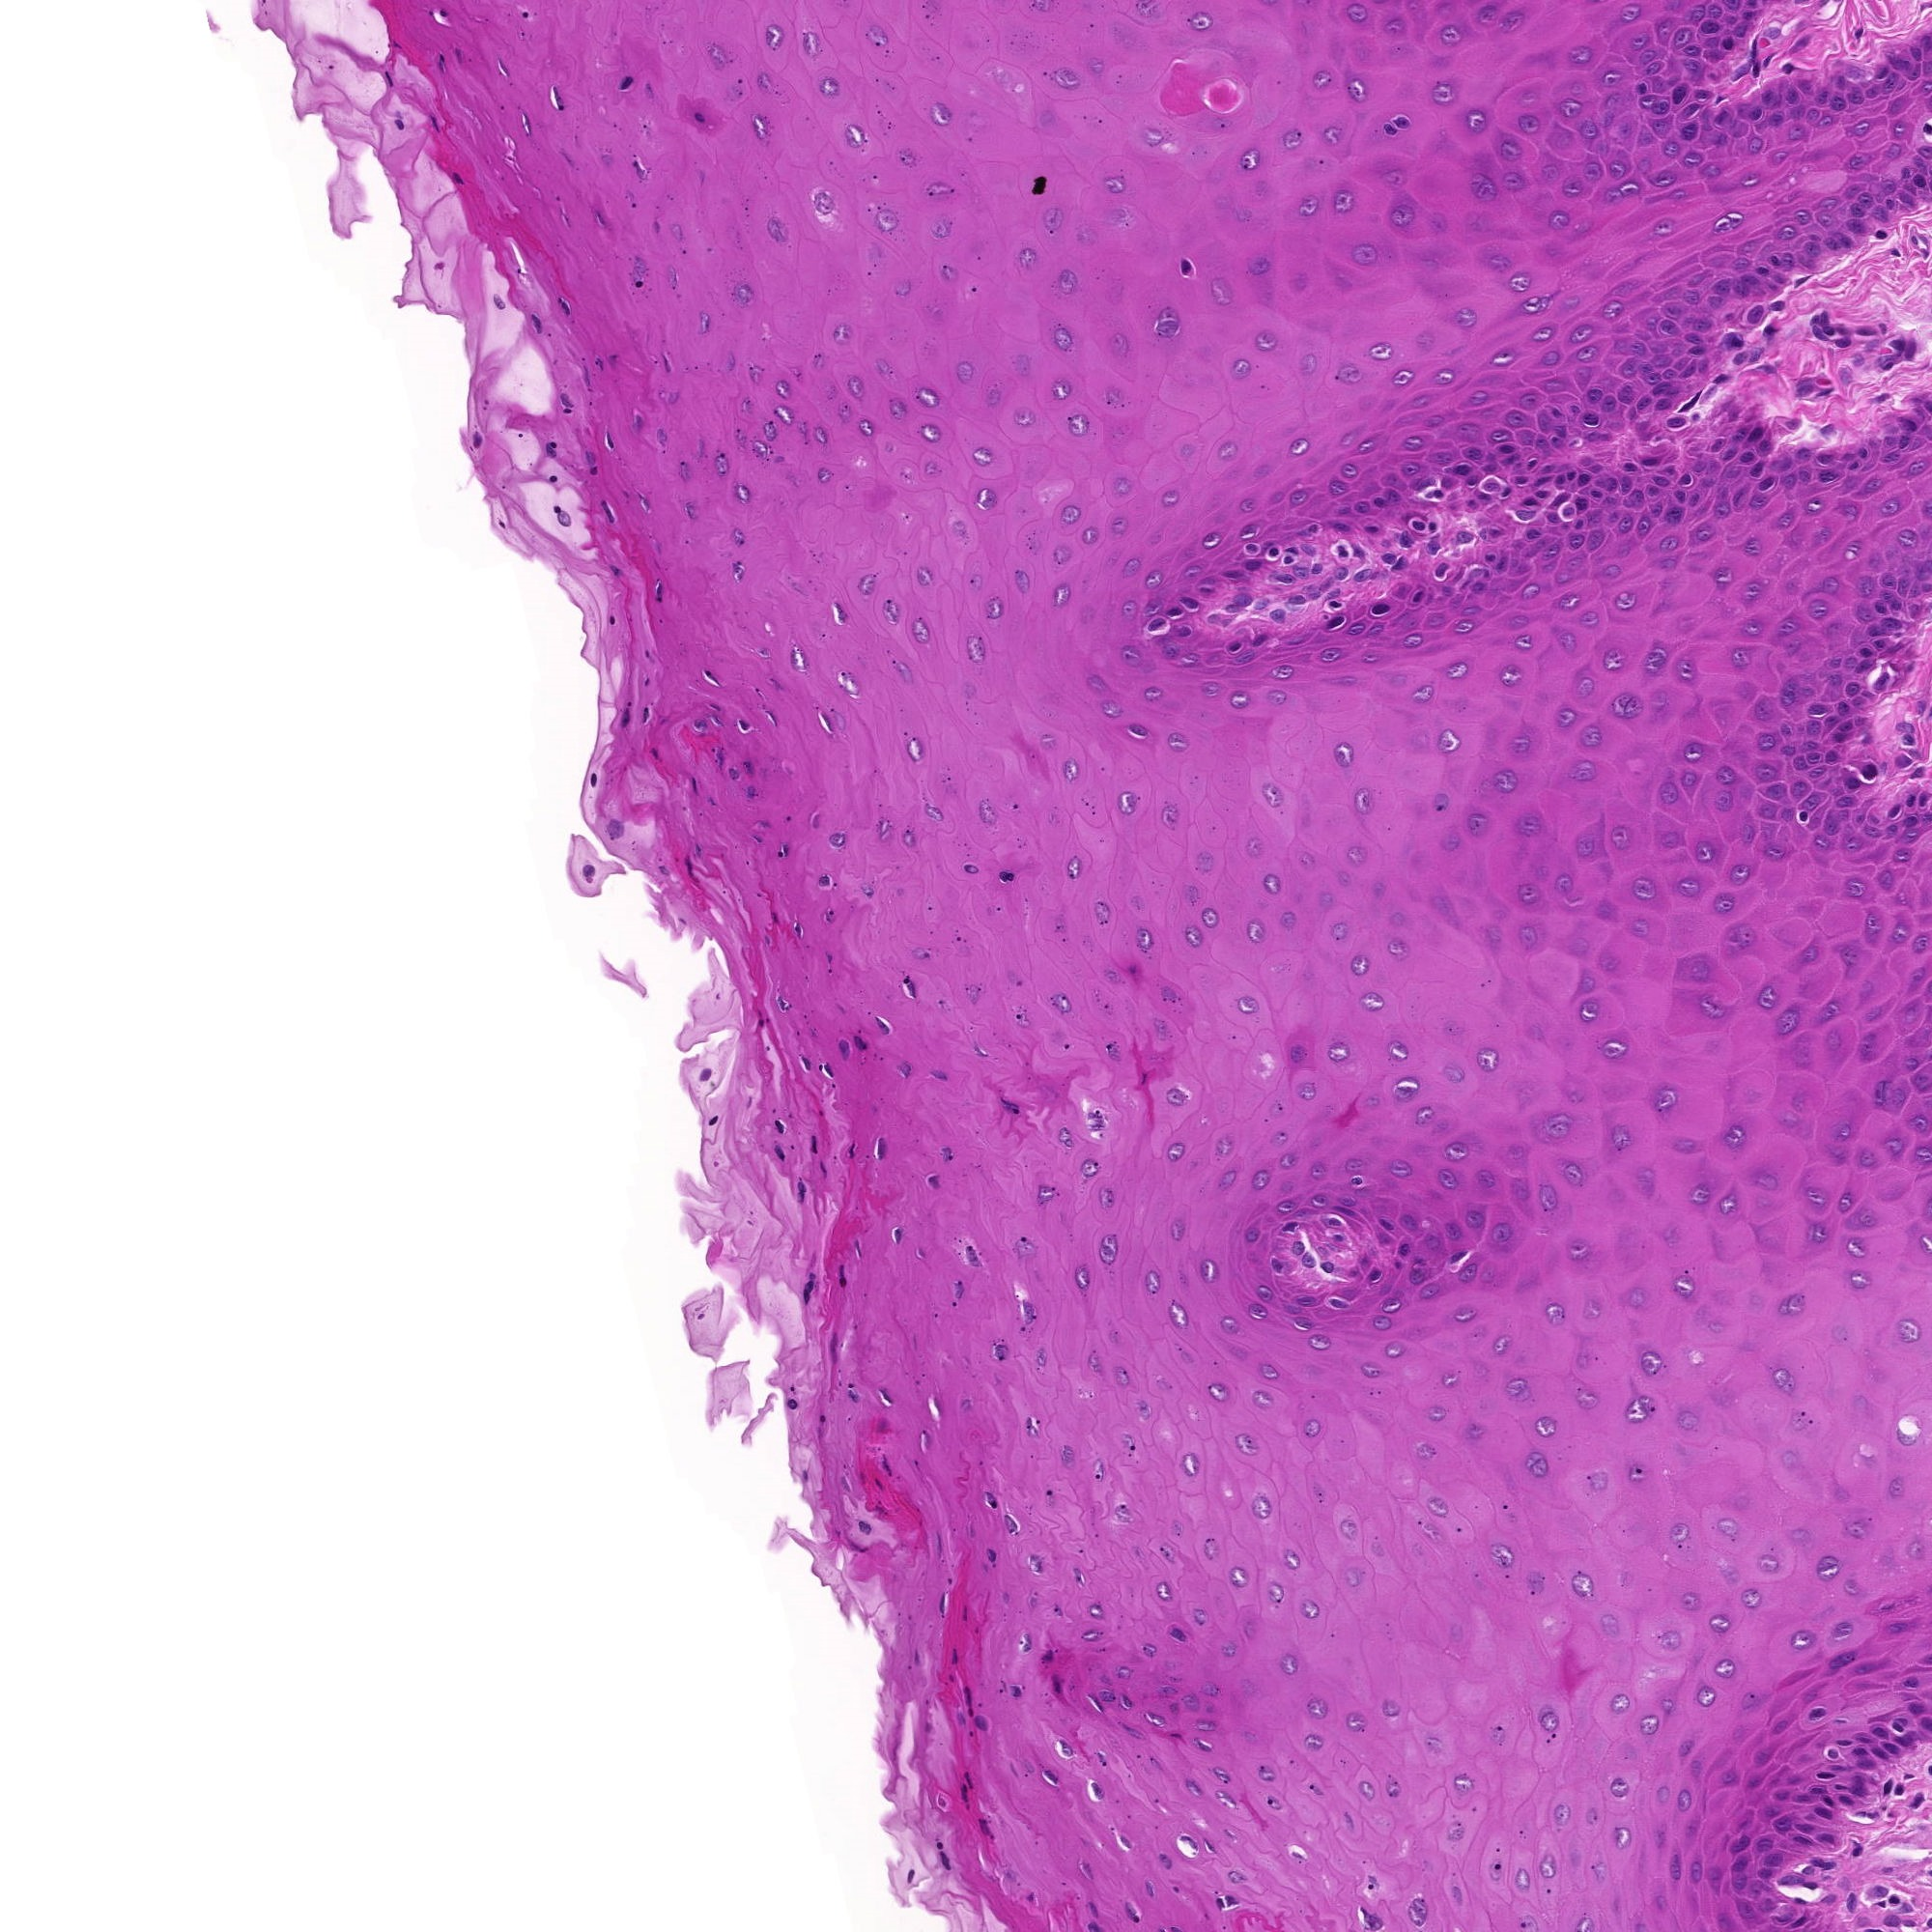epithelial: (1881, 85, 1913, 119), (1677, 104, 1709, 138), (1695, 97, 1727, 131), (1812, 817, 1844, 851), (1888, 1723, 1920, 1757), (1842, 1766, 1874, 1799), (1872, 1713, 1905, 1744), (1819, 1759, 1851, 1792), (761, 214, 793, 246), (727, 278, 759, 310), (575, 448, 607, 479), (706, 446, 738, 478), (649, 349, 681, 380), (823, 317, 855, 349), (839, 120, 870, 152), (828, 395, 860, 426), (918, 416, 950, 448), (704, 741, 736, 773), (685, 708, 717, 740), (628, 485, 660, 517), (812, 704, 844, 736), (690, 701, 722, 732), (901, 1447, 932, 1479), (1152, 310, 1184, 341), (1348, 235, 1380, 267), (1224, 352, 1256, 384), (1338, 74, 1369, 106), (1320, 464, 1352, 495), (1184, 7, 1215, 39), (1412, 444, 1444, 476), (1099, 170, 1131, 202), (1205, 108, 1237, 140), (1097, 382, 1129, 414), (1007, 349, 1039, 380), (1336, 65, 1368, 97), (1346, 492, 1378, 524), (1329, 495, 1361, 527), (1376, 479, 1408, 511), (1362, 603, 1394, 635), (1079, 665, 1111, 697), (1191, 571, 1223, 603), (1136, 676, 1168, 708), (1267, 653, 1299, 685), (1161, 630, 1192, 662), (1141, 610, 1173, 642), (1154, 800, 1185, 832), (1053, 752, 1085, 784), (1177, 646, 1208, 678), (1223, 679, 1254, 711), (1286, 517, 1318, 548), (1169, 637, 1201, 669), (1242, 916, 1274, 948), (1309, 885, 1341, 916), (1237, 1219, 1269, 1251), (1304, 1182, 1336, 1214), (1401, 1247, 1433, 1279), (1272, 1205, 1304, 1237), (1302, 1152, 1334, 1184), (1364, 1306, 1396, 1338), (1162, 1214, 1194, 1246), (1346, 1173, 1378, 1205), (1253, 1355, 1284, 1387), (1093, 1182, 1125, 1214), (1201, 1373, 1233, 1405), (1371, 1274, 1403, 1306), (1212, 1161, 1244, 1192), (1161, 1138, 1192, 1169), (1408, 1099, 1440, 1131), (1419, 1180, 1451, 1212), (1384, 1031, 1415, 1063), (1378, 1152, 1410, 1184), (1357, 1357, 1389, 1389), (1207, 1131, 1238, 1162), (1295, 1414, 1327, 1445), (1175, 1684, 1207, 1716), (1106, 1656, 1138, 1688), (1341, 1707, 1373, 1739), (1695, 12, 1727, 44), (1737, 419, 1769, 451), (1663, 80, 1695, 111), (1490, 433, 1522, 465), (1713, 28, 1744, 60), (1495, 442, 1527, 474), (1527, 426, 1559, 458), (1706, 101, 1737, 133), (1652, 311, 1684, 343), (1776, 80, 1808, 111), (1897, 57, 1928, 88), (1578, 380, 1610, 412), (1681, 334, 1713, 366), (1677, 322, 1709, 354), (1529, 460, 1560, 492), (1447, 446, 1479, 478), (1895, 409, 1927, 441), (1723, 418, 1755, 449), (1734, 426, 1766, 458), (1631, 354, 1663, 386), (1642, 108, 1674, 140), (1874, 172, 1905, 203), (1720, 19, 1752, 51), (1746, 428, 1778, 460), (1647, 389, 1679, 421), (1537, 398, 1569, 430), (1881, 55, 1913, 87), (1874, 184, 1905, 216), (1686, 78, 1718, 110), (1840, 145, 1872, 177), (1573, 391, 1605, 423), (1695, 23, 1727, 55), (1782, 97, 1813, 129), (1622, 333, 1654, 364), (1787, 437, 1819, 469), (1835, 446, 1867, 478), (1750, 103, 1782, 134), (1771, 218, 1803, 249), (1454, 458, 1486, 490), (1845, 437, 1877, 469), (1644, 69, 1675, 101), (1668, 462, 1700, 494), (1635, 88, 1667, 120), (1730, 4, 1762, 35), (1759, 449, 1790, 481), (1647, 101, 1679, 133), (1739, 131, 1771, 163), (1502, 455, 1534, 487), (1720, 111, 1752, 143), (1711, 108, 1743, 140), (1865, 73, 1897, 104), (1683, 111, 1714, 143), (1580, 421, 1612, 453), (1463, 108, 1495, 140), (1592, 62, 1624, 94), (1463, 172, 1495, 203), (1709, 209, 1741, 241), (1859, 65, 1891, 97), (1479, 244, 1511, 276), (1805, 103, 1836, 134), (1454, 103, 1486, 134), (1488, 338, 1520, 370), (1686, 96, 1718, 127), (1652, 161, 1684, 193), (1571, 334, 1603, 366), (1601, 179, 1633, 211), (1461, 209, 1493, 241), (1755, 249, 1787, 281), (1633, 334, 1665, 366), (1612, 329, 1644, 361), (1790, 246, 1822, 278), (1881, 435, 1913, 467), (1798, 442, 1829, 474), (1548, 120, 1580, 152), (1695, 111, 1727, 143), (1734, 255, 1766, 287), (1463, 97, 1495, 129), (1828, 449, 1859, 481), (1654, 96, 1686, 127), (1594, 379, 1626, 410), (1882, 113, 1914, 145), (1716, 269, 1748, 301), (1743, 108, 1775, 140), (1888, 64, 1920, 96), (1688, 152, 1720, 184), (1566, 410, 1598, 442), (1812, 223, 1844, 255), (1456, 421, 1488, 453), (1509, 414, 1541, 446), (1672, 23, 1704, 55), (1518, 435, 1550, 467), (1665, 366, 1697, 398), (1566, 382, 1598, 414), (1465, 444, 1497, 476), (1536, 412, 1568, 444), (1888, 149, 1920, 180), (1608, 271, 1640, 303), (1594, 403, 1626, 435), (1529, 418, 1560, 449), (1713, 249, 1744, 281), (1856, 177, 1888, 209), (1683, 16, 1714, 48), (1895, 172, 1927, 203), (1739, 435, 1771, 467), (1898, 48, 1930, 80), (1486, 248, 1518, 280), (1493, 412, 1525, 444), (1631, 366, 1663, 398), (1801, 694, 1833, 725), (1863, 628, 1895, 660), (1484, 548, 1516, 580), (1798, 708, 1829, 740), (1582, 479, 1614, 511), (1851, 570, 1882, 602), (1819, 663, 1851, 695), (1872, 564, 1904, 596), (1665, 479, 1697, 511), (1578, 524, 1610, 556), (1870, 863, 1902, 895), (1674, 764, 1706, 796), (1642, 640, 1674, 672), (1709, 757, 1741, 789), (1695, 833, 1727, 865), (1552, 495, 1583, 527), (1509, 876, 1541, 908), (1511, 807, 1543, 839), (1750, 794, 1782, 826), (1819, 646, 1851, 678), (1741, 487, 1773, 518), (1884, 589, 1916, 621), (1856, 915, 1888, 947), (1757, 835, 1789, 867), (1875, 490, 1907, 522), (1881, 621, 1913, 653), (1773, 607, 1805, 639), (1897, 573, 1928, 605), (1656, 823, 1688, 855), (1672, 869, 1704, 901), (1725, 925, 1757, 957), (1550, 584, 1582, 616), (1610, 517, 1642, 548), (1566, 759, 1598, 791), (1778, 632, 1810, 663), (1656, 508, 1688, 540), (1534, 541, 1566, 573), (1456, 582, 1488, 614), (1493, 761, 1525, 793), (1812, 750, 1844, 782), (1808, 828, 1840, 860), (1842, 658, 1874, 690), (1456, 594, 1488, 626), (1640, 481, 1672, 513), (1562, 534, 1594, 566), (1587, 495, 1619, 527), (1500, 605, 1532, 637), (1559, 545, 1591, 577), (1826, 800, 1858, 832), (1859, 839, 1891, 870), (1615, 487, 1647, 518), (1757, 761, 1789, 793), (1794, 803, 1826, 835), (1592, 556, 1624, 587), (1799, 722, 1831, 754), (1610, 531, 1642, 563), (1447, 591, 1479, 623), (1493, 658, 1525, 690), (1856, 904, 1888, 936), (1810, 580, 1842, 612), (1780, 731, 1812, 763), (1844, 621, 1875, 653), (1522, 573, 1553, 605), (1801, 715, 1833, 747), (1851, 580, 1882, 612), (1509, 545, 1541, 577), (1803, 814, 1835, 846), (1729, 775, 1760, 807), (1865, 1076, 1897, 1108), (1688, 1175, 1720, 1207), (1714, 1118, 1746, 1150), (1881, 1132, 1913, 1164), (1603, 1125, 1635, 1157), (1557, 1154, 1589, 1185), (1854, 1024, 1886, 1056), (1767, 1362, 1799, 1394), (1773, 1010, 1805, 1042), (1822, 1139, 1854, 1171), (1631, 1168, 1663, 1200), (1530, 1407, 1562, 1438), (1898, 1053, 1930, 1085), (1467, 1208, 1499, 1240), (1725, 1849, 1757, 1881), (1882, 1709, 1914, 1741), (1790, 1812, 1822, 1844), (1746, 1741, 1778, 1773), (1847, 1723, 1879, 1755), (1744, 1766, 1776, 1798), (1810, 1759, 1842, 1790), (1851, 1652, 1882, 1684), (1898, 1693, 1930, 1725), (1805, 1766, 1836, 1798), (1679, 1854, 1711, 1886), (1736, 1872, 1767, 1904), (1729, 1766, 1760, 1798), (1752, 1836, 1783, 1868), (1778, 1808, 1810, 1840), (1744, 1867, 1776, 1898), (1660, 1851, 1691, 1882), (1789, 1622, 1821, 1654), (1709, 1865, 1741, 1897), (1760, 1773, 1792, 1805), (1757, 1863, 1789, 1895), (1730, 1856, 1762, 1888), (1755, 1821, 1787, 1852), (1836, 1759, 1868, 1790), (1364, 334, 1398, 364), (1162, 603, 1192, 637), (1028, 1178, 1062, 1208), (1656, 379, 1686, 412), (1500, 165, 1534, 195), (1658, 133, 1691, 163), (1665, 90, 1695, 124), (1477, 462, 1507, 495), (1651, 368, 1684, 398), (1642, 462, 1672, 495), (1711, 290, 1741, 324), (1847, 651, 1881, 681), (1845, 633, 1879, 663), (1826, 679, 1859, 709), (1844, 814, 1874, 847), (1821, 1028, 1851, 1062), (1767, 1859, 1798, 1893), (885, 393, 916, 423), (623, 407, 655, 437), (929, 97, 961, 127), (747, 64, 777, 96), (931, 255, 962, 285), (743, 110, 773, 142), (511, 108, 543, 138), (807, 418, 837, 449), (807, 186, 839, 216), (807, 458, 837, 490), (816, 69, 846, 101), (725, 421, 755, 453), (890, 142, 922, 172), (738, 356, 768, 387), (488, 51, 518, 83), (840, 370, 870, 402), (791, 27, 823, 57), (658, 382, 688, 414), (803, 341, 833, 373), (732, 387, 763, 419), (747, 435, 777, 467), (927, 214, 959, 244), (863, 23, 893, 55), (732, 750, 763, 782), (600, 812, 630, 844), (867, 812, 897, 844), (908, 561, 938, 593), (851, 570, 883, 600), (743, 823, 773, 855), (874, 591, 906, 621), (761, 669, 793, 699), (648, 706, 679, 736), (800, 805, 830, 837), (752, 924, 784, 954), (842, 1231, 872, 1263), (892, 1053, 922, 1085), (867, 1410, 897, 1442), (924, 1389, 954, 1421), (941, 1272, 973, 1302), (925, 1589, 957, 1619), (899, 1642, 931, 1672), (924, 1527, 954, 1559), (846, 1461, 878, 1491), (879, 1734, 909, 1766), (1246, 249, 1276, 281), (1396, 428, 1426, 460), (1376, 464, 1408, 494), (1332, 453, 1364, 483), (1422, 442, 1453, 474), (1284, 265, 1315, 297), (1293, 189, 1325, 219), (1387, 361, 1419, 391), (1415, 242, 1445, 274), (1249, 324, 1279, 356), (1047, 320, 1079, 350), (1307, 62, 1338, 94), (1037, 205, 1069, 235), (1054, 62, 1085, 94), (1283, 428, 1315, 458), (1341, 2, 1373, 32), (1152, 299, 1182, 331), (1421, 209, 1453, 239), (1330, 357, 1362, 387), (1405, 384, 1437, 414), (1079, 51, 1109, 83), (1327, 265, 1359, 295), (970, 437, 1000, 469), (1385, 207, 1417, 237), (1062, 405, 1092, 437), (1031, 103, 1063, 133), (1159, 594, 1189, 626), (1139, 602, 1171, 632), (1403, 582, 1435, 612), (1339, 614, 1371, 644), (1168, 616, 1200, 646), (1217, 559, 1247, 591), (1237, 548, 1267, 580), (1316, 639, 1346, 671), (1175, 589, 1207, 619), (1115, 637, 1145, 669), (1148, 625, 1180, 655), (1237, 531, 1267, 563), (1276, 481, 1307, 511), (1148, 600, 1180, 630), (1391, 501, 1421, 533), (1327, 508, 1359, 538), (1233, 495, 1263, 527), (973, 485, 1005, 515), (1272, 904, 1304, 934), (1361, 614, 1391, 646), (1224, 554, 1254, 586), (1115, 786, 1145, 817), (1389, 605, 1419, 637), (1177, 878, 1207, 909), (1171, 625, 1201, 656), (1005, 563, 1037, 593), (1116, 550, 1146, 582), (1350, 784, 1380, 816), (1138, 559, 1168, 591), (1355, 644, 1387, 674), (1056, 497, 1086, 529), (1325, 741, 1357, 771), (1129, 924, 1161, 954), (1316, 616, 1346, 648), (1286, 481, 1318, 511), (1362, 874, 1392, 906), (980, 593, 1010, 625), (1058, 856, 1088, 888), (1254, 867, 1284, 899), (1180, 922, 1212, 952), (1171, 540, 1203, 570), (1357, 632, 1387, 663), (1414, 582, 1444, 614), (964, 632, 996, 662), (1205, 561, 1237, 591), (1394, 612, 1424, 644), (1290, 1286, 1322, 1316), (1392, 1205, 1424, 1235), (1371, 1208, 1401, 1240), (1387, 1233, 1419, 1263), (1341, 1159, 1371, 1191), (1417, 1224, 1447, 1256), (1249, 1277, 1279, 1309), (1261, 1249, 1293, 1279), (1316, 1207, 1348, 1237), (1288, 1304, 1318, 1336), (1378, 1284, 1408, 1316), (1392, 1076, 1422, 1108), (1389, 1154, 1421, 1184), (1092, 1233, 1122, 1265), (1152, 980, 1184, 1010), (1286, 1196, 1316, 1228), (1233, 989, 1263, 1021), (1024, 1341, 1056, 1371), (1051, 1122, 1081, 1154), (1338, 1198, 1368, 1230), (1394, 1238, 1426, 1269), (1044, 985, 1076, 1016), (1398, 1212, 1430, 1242), (1136, 1265, 1168, 1295), (1361, 985, 1392, 1016), (1108, 1357, 1138, 1389), (1410, 1272, 1442, 1302), (1322, 1200, 1352, 1231), (1304, 1323, 1336, 1353), (1373, 1292, 1403, 1323), (1272, 1178, 1302, 1210), (1079, 1350, 1111, 1380), (1247, 1288, 1279, 1318), (1290, 1076, 1320, 1108), (1421, 1399, 1451, 1431), (1111, 1686, 1141, 1718), (1196, 1675, 1228, 1706), (1299, 1725, 1329, 1757), (1159, 1691, 1189, 1723), (1214, 1635, 1246, 1665), (1403, 1895, 1435, 1925), (1076, 1619, 1106, 1651), (1093, 1677, 1123, 1709), (1274, 1647, 1304, 1679), (1132, 1635, 1164, 1665), (1051, 1440, 1083, 1470), (1150, 1576, 1180, 1608), (1375, 1693, 1405, 1725), (1184, 1601, 1214, 1633), (1102, 1683, 1132, 1714), (1299, 1691, 1329, 1723), (1090, 1665, 1122, 1695), (994, 1859, 1024, 1891), (1150, 1537, 1182, 1568), (1575, 403, 1606, 433), (1445, 455, 1477, 485), (1730, 442, 1762, 472), (1645, 92, 1675, 124), (1645, 373, 1675, 405), (1741, 455, 1771, 487), (1886, 48, 1918, 78), (1739, 99, 1771, 129), (1677, 35, 1709, 65), (1746, 257, 1778, 287), (1824, 88, 1856, 119), (1806, 80, 1836, 111), (1592, 391, 1624, 421), (1484, 419, 1516, 449), (1569, 464, 1601, 494), (1626, 387, 1658, 418), (1844, 193, 1874, 225), (1727, 274, 1757, 306), (1729, 267, 1760, 297), (1713, 439, 1744, 469), (1545, 418, 1575, 449), (1626, 74, 1658, 104), (1704, 124, 1736, 154), (1840, 80, 1870, 111), (1810, 460, 1840, 492), (1511, 106, 1543, 136), (1644, 165, 1675, 195), (1516, 448, 1546, 479), (1762, 246, 1794, 276), (1842, 205, 1874, 235), (1826, 65, 1856, 97), (1697, 37, 1729, 67), (1884, 426, 1916, 456), (1681, 57, 1713, 87), (1852, 184, 1882, 216), (1787, 202, 1819, 232), (1789, 460, 1821, 490), (1677, 143, 1709, 173), (1856, 76, 1888, 106), (1500, 402, 1530, 433), (1665, 18, 1695, 50), (1684, 451, 1716, 481), (1633, 446, 1665, 476), (1739, 264, 1769, 295), (1559, 172, 1589, 203), (1897, 159, 1928, 189), (1727, 16, 1759, 46), (1836, 175, 1867, 207), (1773, 464, 1803, 495), (1614, 352, 1644, 384), (1610, 464, 1642, 494), (1594, 464, 1624, 495), (1900, 37, 1930, 69), (1545, 202, 1575, 234), (1490, 127, 1520, 159), (1714, 458, 1744, 490), (1562, 42, 1594, 73), (1789, 71, 1821, 101), (1874, 425, 1904, 456), (1578, 154, 1608, 186), (1610, 113, 1642, 143), (1566, 398, 1596, 430), (1750, 439, 1780, 471), (1707, 12, 1739, 42), (1817, 228, 1847, 260), (1812, 87, 1844, 117), (1718, 205, 1750, 235), (1725, 249, 1757, 280), (1759, 258, 1789, 290), (1658, 67, 1690, 97), (1729, 96, 1760, 126), (1637, 53, 1667, 85), (1539, 426, 1569, 458), (1720, 426, 1750, 458), (1603, 386, 1633, 418), (1449, 412, 1479, 444), (1881, 104, 1913, 134), (1603, 152, 1633, 184), (1716, 97, 1748, 127), (1573, 366, 1603, 398), (1534, 343, 1566, 373), (1727, 104, 1759, 134), (1647, 345, 1677, 377), (1603, 294, 1633, 326), (1566, 313, 1598, 343), (1898, 455, 1928, 487), (1573, 117, 1605, 147), (1695, 451, 1727, 481), (1631, 122, 1661, 154), (1718, 446, 1748, 478), (1796, 92, 1828, 122), (1718, 398, 1748, 430), (1697, 156, 1729, 186), (1812, 97, 1842, 129), (1518, 288, 1550, 318), (1736, 163, 1766, 195), (1835, 73, 1865, 104), (1571, 37, 1603, 67), (1690, 458, 1720, 490), (1690, 41, 1720, 73), (1578, 458, 1610, 488), (1829, 81, 1861, 111), (1536, 152, 1566, 184), (1675, 306, 1706, 338), (1844, 180, 1874, 212), (1592, 104, 1624, 134), (1773, 101, 1803, 133), (1845, 113, 1875, 145), (1468, 165, 1499, 196), (1626, 409, 1658, 439), (1633, 67, 1663, 99), (1815, 188, 1845, 219), (1640, 453, 1672, 483), (1550, 455, 1582, 485), (1667, 30, 1698, 60), (1559, 460, 1589, 492), (1626, 341, 1656, 373), (1445, 303, 1477, 333), (1467, 150, 1499, 180), (1881, 414, 1913, 444), (1585, 152, 1617, 182), (1619, 170, 1651, 200), (1472, 175, 1504, 205), (1594, 83, 1626, 113), (1877, 44, 1909, 74), (1548, 410, 1578, 442), (1865, 182, 1895, 214), (1675, 48, 1707, 78), (1486, 449, 1518, 479), (1631, 81, 1661, 113), (1835, 219, 1865, 251), (1637, 310, 1667, 341), (1644, 338, 1675, 368), (1663, 333, 1695, 363), (1667, 106, 1697, 138), (1442, 14, 1474, 44), (1897, 428, 1928, 458), (1665, 306, 1697, 336), (1688, 7, 1720, 37), (1534, 433, 1564, 465), (1674, 345, 1706, 375), (1812, 196, 1842, 228), (1874, 80, 1905, 110), (1619, 345, 1649, 377), (1801, 140, 1831, 172), (1651, 301, 1683, 331), (1573, 416, 1603, 448), (1672, 85, 1704, 115), (1698, 2, 1729, 34), (1796, 80, 1826, 111), (1695, 297, 1727, 327), (1681, 301, 1713, 331), (1568, 214, 1598, 246), (1736, 464, 1766, 495), (1840, 214, 1870, 246), (1520, 464, 1550, 495), (1511, 292, 1541, 324), (1748, 88, 1778, 120), (1566, 329, 1596, 361), (1858, 442, 1888, 474), (1884, 177, 1916, 207), (1665, 124, 1695, 156), (1631, 395, 1663, 425), (1603, 165, 1635, 195), (1635, 345, 1665, 377), (1810, 205, 1840, 237), (1679, 127, 1709, 159), (1660, 499, 1691, 529), (1828, 692, 1859, 722), (1815, 706, 1847, 736), (1874, 589, 1905, 619), (1566, 488, 1598, 518), (1851, 642, 1882, 672), (1829, 717, 1861, 747), (1759, 775, 1790, 805), (1799, 741, 1829, 773), (1836, 672, 1868, 702), (1559, 525, 1591, 556), (1773, 678, 1805, 708), (1785, 750, 1817, 780), (1566, 508, 1596, 540), (1783, 770, 1813, 801), (1815, 741, 1847, 771), (1463, 571, 1493, 603), (1516, 518, 1546, 550), (1629, 511, 1661, 541), (1677, 732, 1709, 763), (1875, 814, 1907, 844), (1794, 731, 1826, 761), (1803, 757, 1833, 789), (1874, 575, 1904, 607), (1746, 692, 1776, 724), (1736, 531, 1766, 563), (1612, 506, 1642, 538), (1458, 807, 1490, 837), (1771, 715, 1801, 747), (1684, 517, 1714, 548), (1591, 895, 1621, 927), (1537, 533, 1568, 564), (1750, 754, 1782, 784), (1467, 559, 1497, 591), (1520, 527, 1550, 559), (1479, 543, 1511, 573), (1706, 490, 1736, 522), (1537, 501, 1568, 533), (1599, 501, 1629, 533), (1840, 870, 1870, 902), (1773, 775, 1803, 807), (1486, 768, 1516, 800), (1626, 874, 1658, 904), (1612, 688, 1644, 718), (1580, 502, 1610, 534), (1805, 593, 1835, 625), (1709, 786, 1739, 817), (1836, 826, 1867, 858), (1739, 609, 1771, 639), (1553, 701, 1585, 731), (1771, 798, 1803, 828), (1714, 764, 1746, 794), (1771, 501, 1801, 533), (1711, 777, 1741, 809), (1817, 612, 1847, 644), (1709, 890, 1741, 920), (1792, 676, 1822, 708), (1844, 685, 1875, 715), (1852, 625, 1882, 656), (1635, 501, 1665, 533), (1652, 777, 1684, 807), (1826, 669, 1858, 699), (1891, 814, 1923, 844), (1856, 817, 1888, 847), (1479, 517, 1509, 548), (1831, 494, 1863, 524), (1868, 600, 1898, 632), (1580, 490, 1610, 522), (1507, 729, 1539, 759), (1453, 568, 1483, 600), (1874, 642, 1904, 674), (1900, 593, 1930, 625), (1895, 821, 1925, 853), (1844, 803, 1875, 833), (1840, 529, 1870, 561), (1548, 869, 1580, 899), (1787, 761, 1817, 793), (1603, 817, 1635, 847), (1509, 625, 1539, 656), (1844, 706, 1874, 738), (1875, 839, 1907, 869), (1824, 780, 1856, 810), (1444, 561, 1476, 591), (1651, 547, 1681, 579), (1794, 939, 1826, 970), (1684, 494, 1716, 524), (1550, 529, 1582, 559), (1764, 731, 1796, 761), (1831, 646, 1861, 678), (1541, 510, 1571, 541), (1440, 586, 1470, 617), (1527, 534, 1557, 566), (1458, 561, 1488, 593), (1856, 609, 1888, 639), (1886, 909, 1916, 941), (1870, 625, 1902, 655), (1645, 692, 1675, 724), (1856, 807, 1888, 837), (1752, 770, 1783, 800), (1824, 708, 1856, 738), (1773, 786, 1803, 817), (1824, 791, 1854, 823), (1888, 580, 1920, 610), (1771, 686, 1803, 717), (1812, 695, 1842, 727), (1776, 667, 1806, 699), (1622, 913, 1654, 943), (1810, 768, 1840, 800), (1762, 720, 1794, 750), (1550, 506, 1580, 538), (1612, 697, 1642, 729), (1548, 623, 1580, 653), (1707, 695, 1737, 727), (1897, 536, 1927, 568), (1440, 1215, 1470, 1247), (1897, 1044, 1927, 1076), (1454, 1253, 1484, 1284), (1803, 1217, 1835, 1247), (1442, 1240, 1472, 1272), (1815, 994, 1847, 1024), (1852, 1033, 1882, 1065), (1506, 1175, 1536, 1207), (1829, 1115, 1859, 1146), (1884, 1079, 1916, 1109), (1748, 980, 1780, 1010), (1748, 1159, 1778, 1191), (1851, 1143, 1881, 1175), (1849, 1205, 1881, 1235), (1773, 1288, 1805, 1318), (1575, 993, 1605, 1024), (1697, 993, 1727, 1024), (1447, 1299, 1477, 1330), (1829, 1184, 1861, 1214), (1541, 1297, 1573, 1327), (1562, 1233, 1594, 1263), (1783, 1083, 1813, 1115), (1672, 1131, 1702, 1162), (1870, 1069, 1902, 1099), (1870, 1085, 1902, 1115), (1569, 970, 1599, 1001), (1486, 1330, 1518, 1361), (1500, 1138, 1532, 1168), (1842, 1265, 1874, 1295), (1785, 1042, 1817, 1072), (1810, 1001, 1840, 1033), (1474, 1263, 1506, 1293), (1752, 987, 1783, 1017), (1852, 975, 1882, 1007), (1790, 973, 1822, 1003), (1667, 1276, 1698, 1306), (1729, 1826, 1759, 1858), (1767, 1810, 1798, 1842), (1789, 1782, 1819, 1813), (1750, 1828, 1780, 1859), (1794, 1780, 1826, 1810), (1844, 1737, 1875, 1767), (1755, 1796, 1787, 1826), (1759, 1844, 1790, 1874), (1824, 1773, 1856, 1803), (1805, 1798, 1836, 1828), (1865, 1716, 1897, 1746), (1875, 1730, 1905, 1762), (1725, 1867, 1755, 1898), (1852, 1748, 1882, 1780), (1778, 1766, 1810, 1796), (1729, 1812, 1759, 1844), (1752, 1890, 1783, 1920), (1836, 1775, 1868, 1805), (1759, 1805, 1790, 1835), (1766, 1709, 1796, 1741), (1737, 1684, 1769, 1714), (1829, 1612, 1859, 1644), (1824, 1752, 1854, 1783), (1720, 1833, 1750, 1865), (1675, 1813, 1707, 1844), (1773, 1815, 1803, 1847), (1530, 1698, 1560, 1730), (1645, 1821, 1675, 1852), (1520, 1447, 1552, 1477), (1520, 1568, 1550, 1599), (1603, 1769, 1633, 1801), (1704, 1612, 1736, 1642), (1782, 1773, 1812, 1805), (1739, 1897, 1771, 1927), (1667, 1782, 1698, 1812), (1836, 1739, 1867, 1771), (1670, 1732, 1702, 1762), (1603, 1819, 1633, 1851), (1851, 1760, 1881, 1792), (1488, 1545, 1518, 1576), (1736, 1833, 1766, 1865), (1752, 1849, 1783, 1879), (1833, 1752, 1865, 1782), (1681, 1752, 1713, 1782), (1842, 1511, 1874, 1541), (1828, 1744, 1858, 1776), (1789, 1767, 1819, 1799), (1674, 1585, 1706, 1615), (1805, 1815, 1836, 1845), (1750, 1813, 1782, 1844), (1633, 1713, 1665, 1743), (1796, 1826, 1826, 1858), (1741, 1881, 1773, 1911), (1736, 1580, 1767, 1610), (1859, 545, 1888, 579), (1767, 1902, 1801, 1930), (444, 39, 474, 69), (380, 28, 410, 58), (598, 343, 628, 373), (770, 370, 800, 400), (586, 347, 616, 377), (702, 41, 732, 71), (584, 200, 614, 230), (690, 308, 720, 338), (755, 414, 786, 444), (658, 264, 688, 294), (571, 361, 602, 391), (717, 349, 747, 379), (625, 249, 655, 280), (736, 777, 766, 807), (824, 824, 855, 855), (701, 695, 731, 725), (720, 757, 750, 787), (895, 821, 925, 851), (683, 833, 713, 863), (782, 913, 812, 943), (725, 524, 755, 554), (906, 614, 936, 644), (918, 796, 948, 826), (766, 989, 796, 1019), (911, 1421, 941, 1451), (798, 1017, 828, 1047), (939, 1642, 970, 1672), (865, 1495, 895, 1525), (828, 1468, 858, 1499), (936, 1663, 966, 1693), (1394, 455, 1424, 485), (1380, 7, 1410, 37), (1325, 182, 1355, 212), (1053, 264, 1083, 294), (1408, 465, 1438, 495), (1417, 407, 1447, 437), (978, 382, 1008, 412), (1353, 428, 1384, 458), (1012, 239, 1042, 269), (1373, 156, 1403, 186), (1049, 372, 1079, 402), (1316, 119, 1346, 149), (1106, 327, 1136, 357), (1279, 120, 1309, 150), (1422, 73, 1453, 103), (1364, 488, 1394, 518), (1233, 518, 1263, 548), (1138, 591, 1168, 621), (1194, 522, 1224, 552), (1297, 513, 1327, 543), (1231, 642, 1261, 672), (1161, 724, 1191, 754), (1281, 626, 1311, 656), (1076, 520, 1106, 550), (1419, 605, 1449, 635), (1192, 674, 1223, 704), (1102, 510, 1132, 540), (1396, 628, 1426, 658), (1330, 607, 1361, 637), (1139, 579, 1169, 609), (1046, 580, 1076, 610), (1191, 844, 1221, 874), (1357, 499, 1387, 529), (1159, 617, 1189, 648), (1200, 642, 1230, 672), (1387, 575, 1417, 605), (1408, 678, 1438, 708), (1350, 616, 1380, 646), (1088, 901, 1118, 931), (1178, 554, 1208, 584), (1194, 901, 1224, 931), (1401, 1260, 1431, 1290), (1329, 1194, 1359, 1224), (1281, 1039, 1311, 1069), (1334, 1277, 1364, 1307), (1242, 1293, 1272, 1323), (1322, 1288, 1352, 1318), (1274, 1189, 1304, 1219), (1246, 1162, 1276, 1192), (1276, 1143, 1306, 1173), (1161, 1079, 1191, 1109), (1415, 1277, 1445, 1307), (1279, 1293, 1309, 1323), (1339, 1150, 1369, 1180), (1189, 1254, 1219, 1284), (1384, 1249, 1414, 1279), (1267, 1192, 1297, 1223), (1146, 1014, 1177, 1044), (1214, 1311, 1244, 1341), (1362, 1261, 1392, 1292), (1309, 1191, 1339, 1221), (1323, 1031, 1353, 1062), (1336, 1189, 1366, 1219), (1088, 1684, 1118, 1714), (1152, 1675, 1182, 1706), (1194, 1709, 1224, 1739), (1081, 1592, 1111, 1622), (1072, 1854, 1102, 1884), (1109, 1677, 1139, 1707), (1378, 1776, 1408, 1806), (1233, 1612, 1263, 1642), (1249, 1491, 1279, 1522), (1277, 1543, 1307, 1573), (1085, 1458, 1115, 1488), (1295, 1596, 1325, 1626), (1674, 117, 1704, 147), (1458, 439, 1488, 469), (1474, 455, 1504, 485), (1760, 104, 1790, 134), (1707, 271, 1737, 301), (1610, 382, 1640, 412), (1769, 448, 1799, 478), (1675, 94, 1706, 124), (1755, 83, 1785, 113), (1530, 405, 1560, 435), (1875, 442, 1905, 472), (1658, 295, 1688, 326), (1638, 363, 1668, 393), (1688, 310, 1718, 340), (1767, 81, 1798, 111), (1514, 384, 1545, 414), (1893, 184, 1923, 214), (1877, 67, 1907, 97), (1674, 356, 1704, 386), (1690, 106, 1720, 136), (1867, 198, 1897, 228), (1677, 281, 1707, 311), (1527, 451, 1557, 481), (1651, 460, 1681, 490), (1518, 425, 1548, 455), (1718, 5, 1748, 35), (1704, 281, 1734, 311), (1647, 9, 1677, 39), (1476, 442, 1506, 472), (1836, 460, 1867, 490), (1706, 433, 1736, 464), (1782, 115, 1812, 145), (1750, 462, 1780, 492), (1775, 248, 1805, 278), (1541, 368, 1571, 398), (1654, 359, 1684, 389), (1614, 175, 1644, 205), (1764, 92, 1794, 122), (1463, 384, 1493, 414), (1624, 28, 1654, 58), (1729, 451, 1759, 481), (1893, 419, 1923, 449), (1483, 428, 1513, 458), (1649, 83, 1679, 113), (1782, 455, 1812, 485), (1495, 4, 1525, 34), (1633, 41, 1663, 71), (1679, 458, 1709, 488), (1683, 265, 1713, 295), (1661, 352, 1691, 382), (1557, 97, 1587, 127), (1500, 432, 1530, 462), (1541, 455, 1571, 485), (1537, 237, 1568, 267), (1530, 42, 1560, 73), (1750, 265, 1780, 295), (1647, 211, 1677, 241), (1704, 19, 1734, 50), (1819, 458, 1849, 488), (1734, 230, 1764, 260), (1656, 278, 1686, 308), (1755, 433, 1785, 464), (1882, 126, 1913, 156), (1842, 67, 1872, 97), (1559, 405, 1589, 435), (1879, 136, 1909, 166), (1792, 99, 1822, 129), (1548, 92, 1578, 122), (1493, 138, 1523, 168), (1851, 448, 1881, 478), (1663, 179, 1693, 209), (1656, 154, 1686, 184), (1856, 464, 1886, 494), (1683, 88, 1713, 119), (1615, 373, 1645, 403), (1688, 120, 1718, 150), (1559, 320, 1589, 350), (1865, 593, 1895, 623), (1875, 609, 1905, 639), (1824, 722, 1854, 752), (1863, 616, 1893, 646), (1895, 805, 1925, 835), (1835, 770, 1865, 800), (1789, 800, 1819, 830), (1882, 568, 1913, 598), (1622, 481, 1652, 511), (1831, 786, 1861, 816), (1821, 731, 1851, 761), (1796, 786, 1826, 816), (1875, 633, 1905, 663), (1723, 481, 1753, 511), (1571, 499, 1601, 529), (1752, 725, 1782, 755), (1739, 575, 1769, 605), (1679, 483, 1709, 513), (1851, 602, 1881, 632), (1594, 487, 1624, 517), (1893, 520, 1923, 550), (1886, 840, 1916, 870), (1734, 817, 1764, 847), (1840, 649, 1870, 679), (1672, 655, 1702, 685), (1799, 490, 1829, 520), (1580, 722, 1610, 752), (1812, 571, 1842, 602), (1810, 518, 1840, 548), (1833, 938, 1863, 968), (1596, 640, 1626, 671), (1706, 559, 1736, 589), (1725, 855, 1755, 885), (1836, 690, 1867, 720), (1798, 686, 1828, 717), (1652, 529, 1683, 559), (1709, 483, 1739, 513), (1516, 538, 1546, 568), (1506, 552, 1536, 582), (1723, 646, 1753, 676), (1769, 616, 1799, 646), (1559, 515, 1589, 545), (1612, 586, 1642, 616), (1882, 922, 1913, 952), (1790, 778, 1821, 809), (1686, 835, 1716, 865), (1619, 513, 1649, 543), (1573, 513, 1603, 543), (1514, 920, 1545, 950), (1674, 740, 1704, 770), (1573, 603, 1603, 633), (1504, 534, 1534, 564), (1442, 649, 1472, 679), (1730, 678, 1760, 708), (1778, 524, 1808, 554), (1477, 922, 1507, 952), (1900, 554, 1930, 584), (1438, 828, 1468, 858), (1867, 816, 1897, 846), (1813, 715, 1844, 745), (1649, 499, 1679, 529), (1775, 571, 1805, 602), (1654, 538, 1684, 568), (1461, 1201, 1491, 1231), (1488, 1221, 1518, 1251), (1470, 1164, 1500, 1194), (1444, 1131, 1474, 1161), (1778, 998, 1808, 1028), (1645, 1085, 1675, 1115), (1897, 993, 1927, 1023), (1506, 1373, 1536, 1403), (1541, 1109, 1571, 1139), (1594, 1035, 1624, 1065), (1714, 1185, 1744, 1215), (1902, 1065, 1932, 1095), (1458, 1415, 1488, 1445), (1900, 1108, 1930, 1138), (1897, 1031, 1927, 1062), (1438, 1164, 1468, 1194), (1629, 1392, 1660, 1422), (1633, 1350, 1663, 1380), (1536, 1189, 1566, 1219), (1688, 985, 1718, 1016), (1861, 1000, 1891, 1030), (1721, 1115, 1752, 1145), (1900, 964, 1930, 994), (1877, 1125, 1907, 1155), (1796, 1178, 1826, 1208), (1470, 1047, 1500, 1077), (1750, 1858, 1780, 1888), (1767, 1780, 1798, 1810), (1829, 1785, 1859, 1815), (1863, 1737, 1893, 1767), (1806, 1778, 1836, 1808), (1700, 1861, 1730, 1891), (1714, 1764, 1744, 1794), (1730, 1895, 1760, 1925), (1798, 1789, 1828, 1819), (1884, 1612, 1914, 1642), (1859, 1729, 1890, 1759), (1813, 1550, 1844, 1580), (1879, 1472, 1909, 1502), (1727, 1886, 1757, 1916), (1709, 1902, 1739, 1932), (1789, 1796, 1819, 1826), (1644, 1886, 1674, 1916), (1652, 1693, 1683, 1723), (1716, 1852, 1746, 1882), (1690, 1675, 1720, 1706), (674, 495, 706, 524), (702, 704, 734, 732), (1394, 579, 1426, 607), (1258, 778, 1290, 807), (1168, 584, 1196, 616), (1419, 593, 1447, 625), (1350, 1261, 1382, 1290), (1139, 1702, 1171, 1730), (1221, 1566, 1253, 1594), (1157, 1683, 1185, 1714), (1798, 232, 1826, 264), (1637, 375, 1665, 407), (1621, 391, 1649, 423), (1534, 313, 1562, 345), (1826, 191, 1858, 219), (1640, 495, 1672, 524), (1881, 598, 1909, 630), (1472, 550, 1500, 582), (1821, 686, 1852, 715), (1898, 975, 1927, 1007), (1787, 1824, 1815, 1856), (1762, 1766, 1794, 1794), (1798, 1803, 1826, 1835), (1766, 1826, 1794, 1858), (1744, 1842, 1773, 1874), (853, 412, 881, 442), (669, 453, 699, 481), (648, 421, 678, 449), (911, 1713, 941, 1741), (1387, 195, 1415, 225), (1403, 453, 1433, 481), (1157, 637, 1185, 667), (1870, 58, 1898, 88), (1506, 464, 1536, 492), (1904, 166, 1932, 196), (1573, 453, 1603, 481), (1681, 2, 1709, 32), (1741, 274, 1771, 303), (1470, 0, 1500, 28), (1773, 736, 1803, 764), (1817, 810, 1847, 839), (1571, 832, 1601, 860), (1734, 485, 1764, 513), (1451, 609, 1479, 639), (1633, 479, 1663, 508), (1451, 1260, 1479, 1290), (1713, 1651, 1743, 1679)
fibroblast and endothelial: (1325, 518, 1357, 552), (1277, 566, 1309, 600), (1302, 1247, 1336, 1279), (1836, 313, 1870, 345), (1897, 329, 1930, 361), (1759, 271, 1790, 304), (418, 106, 449, 138), (520, 306, 552, 338), (534, 432, 566, 464), (623, 267, 655, 299), (916, 377, 948, 409), (633, 73, 665, 104), (678, 768, 709, 800), (729, 709, 761, 741), (660, 853, 692, 885), (722, 536, 754, 568), (904, 731, 936, 763), (782, 644, 814, 676), (750, 809, 782, 840), (548, 504, 580, 536), (791, 1276, 823, 1307), (764, 1138, 796, 1169), (844, 1026, 876, 1058), (763, 1125, 794, 1157), (794, 1267, 826, 1299), (837, 1380, 869, 1412), (932, 1138, 964, 1169), (690, 1058, 722, 1090), (925, 1060, 957, 1092), (835, 1136, 867, 1168), (807, 1152, 839, 1184), (1387, 536, 1419, 568), (1330, 559, 1362, 591), (1338, 513, 1369, 545), (1293, 580, 1325, 612), (1299, 575, 1330, 607), (1315, 568, 1346, 600), (1307, 559, 1339, 591), (1253, 543, 1284, 575), (1414, 533, 1445, 564), (1095, 1031, 1127, 1063), (1014, 1408, 1046, 1440), (1067, 1267, 1099, 1299), (1031, 1642, 1063, 1674), (1210, 1884, 1242, 1916), (964, 1707, 996, 1739), (1077, 1893, 1109, 1925), (968, 1810, 1000, 1842), (1187, 1828, 1219, 1859), (1254, 1785, 1286, 1817), (1023, 1548, 1054, 1580), (1051, 1730, 1083, 1762), (1086, 1744, 1118, 1776), (1210, 1773, 1242, 1805), (1062, 1560, 1093, 1592), (1203, 1891, 1235, 1923), (1888, 333, 1920, 364), (1872, 349, 1904, 380), (1704, 363, 1736, 395), (1829, 226, 1861, 258), (1792, 373, 1824, 405), (1879, 237, 1911, 269), (1614, 451, 1645, 483), (1865, 382, 1897, 414), (1686, 350, 1718, 382), (1787, 25, 1819, 57), (1773, 60, 1805, 92), (1854, 218, 1886, 249), (1893, 340, 1925, 372), (1677, 402, 1709, 433), (1679, 366, 1711, 398), (1629, 418, 1661, 449), (1725, 333, 1757, 364), (1727, 405, 1759, 437), (1658, 455, 1690, 487), (1665, 382, 1697, 414), (1792, 258, 1824, 290), (1854, 754, 1886, 786), (1877, 794, 1909, 826), (1536, 481, 1568, 513), (1546, 483, 1578, 515), (1447, 520, 1479, 552), (1851, 763, 1882, 794), (1463, 520, 1495, 552), (1851, 678, 1882, 709), (1842, 1228, 1874, 1260), (1808, 1849, 1840, 1881), (1828, 1727, 1859, 1759), (1812, 1822, 1844, 1854), (1898, 1785, 1930, 1817), (1895, 1665, 1927, 1697), (1865, 1888, 1897, 1920), (1897, 1681, 1928, 1713), (1849, 1771, 1881, 1803), (1859, 1709, 1891, 1741), (1847, 1668, 1879, 1700), (1794, 1681, 1826, 1713), (1856, 1766, 1888, 1798), (1288, 554, 1322, 584), (1401, 506, 1435, 536), (1207, 600, 1240, 630), (1265, 556, 1295, 589), (1658, 407, 1691, 437), (1522, 483, 1555, 513), (1813, 1783, 1844, 1817), (373, 62, 403, 94), (426, 44, 456, 76), (460, 425, 492, 455), (435, 42, 467, 73), (610, 67, 642, 97), (550, 386, 580, 418), (543, 87, 575, 117), (685, 101, 715, 133), (548, 290, 580, 320), (621, 152, 653, 182), (594, 426, 626, 456), (754, 19, 784, 51), (908, 382, 939, 412), (481, 288, 513, 318), (770, 398, 801, 428), (610, 702, 640, 734), (674, 849, 704, 881), (579, 763, 609, 794), (626, 699, 658, 729), (809, 865, 840, 895), (759, 902, 791, 932), (814, 901, 846, 931), (639, 738, 671, 768), (757, 701, 789, 731), (648, 855, 678, 886), (612, 695, 644, 725), (855, 876, 885, 908), (814, 943, 846, 973), (786, 1175, 816, 1207), (893, 968, 925, 998), (826, 1265, 858, 1295), (775, 1389, 807, 1419), (697, 1106, 729, 1136), (793, 1046, 823, 1077), (883, 1219, 915, 1249), (814, 1053, 844, 1085), (867, 1012, 899, 1042), (870, 1380, 902, 1410), (918, 1164, 948, 1196), (817, 1329, 847, 1361), (747, 1005, 777, 1037), (897, 975, 929, 1005), (925, 1829, 955, 1861), (870, 1451, 901, 1483), (842, 1530, 872, 1562), (849, 1509, 879, 1541), (895, 1859, 925, 1891), (863, 1467, 893, 1499), (789, 1460, 821, 1490), (869, 1460, 899, 1491), (1387, 106, 1417, 138), (1169, 251, 1201, 281), (1237, 147, 1267, 179), (1417, 524, 1447, 556), (1382, 548, 1412, 580), (1320, 605, 1350, 637), (1410, 510, 1440, 541), (1391, 524, 1421, 556), (1318, 587, 1350, 617), (1343, 536, 1373, 568), (1270, 563, 1300, 594), (991, 860, 1023, 890), (1274, 541, 1304, 573), (1398, 513, 1428, 545), (1258, 534, 1288, 566), (1219, 632, 1251, 662), (1352, 561, 1384, 591), (1283, 536, 1315, 566), (1263, 600, 1293, 632), (1272, 552, 1302, 584), (1223, 587, 1254, 617), (1244, 625, 1274, 656), (1233, 630, 1265, 660), (1297, 545, 1327, 577), (1399, 529, 1431, 559), (1293, 534, 1325, 564), (1343, 557, 1373, 589), (1226, 688, 1256, 720), (1421, 479, 1453, 510), (1200, 602, 1230, 633), (1320, 577, 1352, 607), (1214, 591, 1246, 621), (1284, 559, 1315, 591), (1309, 511, 1339, 543), (1284, 545, 1316, 575), (1182, 584, 1214, 614), (996, 1093, 1028, 1123), (1357, 1253, 1387, 1284), (1311, 1253, 1343, 1283), (1283, 1231, 1315, 1261), (985, 1338, 1016, 1369), (1322, 1223, 1353, 1253), (1339, 1256, 1369, 1288), (1369, 1223, 1399, 1254), (1008, 1224, 1039, 1256), (1350, 1246, 1382, 1276), (1286, 1238, 1318, 1269), (1016, 1297, 1046, 1329), (959, 1240, 989, 1272), (991, 1088, 1023, 1118), (1320, 1254, 1352, 1284), (1129, 1062, 1159, 1093), (1398, 1072, 1430, 1102), (1394, 1063, 1424, 1095), (1001, 1675, 1031, 1707), (1042, 1670, 1072, 1702), (977, 1539, 1007, 1571), (1162, 1617, 1194, 1647), (1353, 1900, 1385, 1930), (1083, 1773, 1113, 1805), (1035, 1760, 1067, 1790), (1187, 1730, 1217, 1762), (1175, 1824, 1205, 1856), (1012, 1629, 1044, 1660), (1161, 1718, 1191, 1750), (1357, 1867, 1387, 1898), (996, 1509, 1026, 1541), (1150, 1844, 1180, 1875), (1115, 1714, 1145, 1746), (1210, 1760, 1240, 1792), (1297, 1773, 1329, 1803), (1178, 1769, 1208, 1801), (1016, 1881, 1046, 1913), (1042, 1594, 1074, 1624), (1132, 1874, 1164, 1904), (1212, 1782, 1244, 1812), (1178, 1449, 1208, 1481), (1109, 1824, 1139, 1856), (1086, 1755, 1116, 1787), (1812, 317, 1844, 347), (1739, 53, 1771, 83), (1677, 387, 1709, 418), (1826, 313, 1856, 345), (1773, 51, 1805, 81), (1829, 324, 1859, 356), (1854, 313, 1884, 345), (1785, 265, 1815, 297), (1723, 343, 1755, 373), (1817, 308, 1847, 340), (1844, 16, 1874, 48), (1775, 265, 1805, 297), (1753, 352, 1783, 384), (1752, 44, 1782, 76), (1882, 327, 1913, 359), (1737, 32, 1769, 62), (1736, 410, 1766, 442), (1684, 382, 1714, 414), (1812, 432, 1842, 464), (1810, 414, 1842, 444), (1838, 329, 1870, 359), (1867, 311, 1898, 341), (1851, 322, 1881, 354), (1902, 386, 1932, 418), (1759, 50, 1789, 81), (1714, 331, 1744, 363), (1619, 402, 1649, 433), (1730, 303, 1760, 334), (1698, 60, 1729, 92), (1651, 446, 1681, 478), (1714, 58, 1746, 88), (1897, 789, 1927, 821), (1514, 487, 1545, 518), (1867, 665, 1897, 697), (1467, 481, 1499, 511), (1893, 724, 1925, 754), (1898, 757, 1930, 787), (1458, 488, 1490, 518), (1891, 653, 1923, 683), (1886, 791, 1916, 823), (1851, 724, 1882, 754), (1895, 734, 1927, 764), (1897, 771, 1928, 801), (1472, 533, 1504, 563), (1882, 660, 1913, 692), (1537, 492, 1569, 522), (1851, 669, 1882, 699), (1874, 1773, 1905, 1803), (1877, 1884, 1909, 1914), (1842, 1835, 1872, 1867), (1829, 1644, 1859, 1675), (1798, 1851, 1829, 1881), (1801, 1697, 1831, 1729), (1787, 1902, 1819, 1932), (1836, 1884, 1867, 1916), (1865, 1877, 1895, 1909), (1483, 1851, 1514, 1881), (1863, 1773, 1895, 1803), (1888, 1767, 1920, 1798), (1622, 1454, 1652, 1486), (1836, 1729, 1867, 1760), (1874, 1591, 1904, 1622), (1847, 1888, 1877, 1920), (1867, 1704, 1897, 1736), (1815, 1801, 1845, 1833), (1881, 1700, 1913, 1730), (1776, 1898, 1808, 1928), (1787, 1865, 1819, 1895), (442, 163, 472, 193), (384, 110, 414, 140), (510, 0, 540, 30), (543, 495, 573, 525), (593, 497, 623, 527), (826, 598, 856, 628), (573, 856, 603, 886), (644, 579, 674, 609), (602, 556, 632, 586), (770, 837, 800, 867), (695, 658, 725, 688), (722, 552, 752, 582), (596, 605, 626, 635), (589, 490, 619, 520), (720, 708, 750, 738), (909, 939, 939, 970), (798, 1129, 828, 1159), (764, 1111, 794, 1141), (867, 1134, 897, 1164), (807, 1403, 837, 1433), (824, 1256, 855, 1286), (800, 1053, 830, 1083), (931, 1845, 961, 1875), (1024, 172, 1054, 202), (1376, 113, 1407, 143), (1364, 591, 1394, 621), (1373, 541, 1403, 571), (1357, 513, 1387, 543), (1327, 534, 1357, 564), (1283, 584, 1313, 614), (1300, 554, 1330, 584), (1123, 715, 1154, 745), (1322, 561, 1352, 591), (1233, 584, 1263, 614), (1382, 529, 1412, 559), (1422, 554, 1453, 584), (1371, 527, 1401, 557), (1293, 1246, 1323, 1276), (1083, 1102, 1113, 1132), (1077, 1150, 1108, 1180), (1005, 1001, 1035, 1031), (978, 1488, 1008, 1518), (1118, 1900, 1148, 1930), (1035, 1477, 1065, 1507), (1247, 1755, 1277, 1785), (1108, 1493, 1138, 1523), (1805, 303, 1835, 333), (1720, 326, 1750, 356), (1739, 42, 1769, 73), (1803, 311, 1833, 341), (1867, 218, 1897, 248), (1755, 315, 1785, 345), (1762, 290, 1792, 320), (1810, 377, 1840, 407), (1810, 442, 1840, 472), (1741, 299, 1771, 329), (1737, 340, 1767, 370), (1665, 402, 1695, 432), (1729, 58, 1759, 88), (1882, 341, 1913, 372), (1697, 375, 1727, 405), (1668, 393, 1698, 423), (1714, 303, 1744, 333), (1746, 313, 1776, 343), (1440, 460, 1470, 490), (1778, 409, 1808, 439), (1854, 331, 1884, 361), (1875, 336, 1905, 366), (1874, 50, 1904, 80), (1888, 747, 1918, 777), (1507, 499, 1537, 529), (1491, 479, 1522, 510), (1893, 713, 1923, 743), (1794, 1870, 1824, 1900), (1884, 1775, 1914, 1805), (1778, 1867, 1808, 1897), (1783, 1886, 1813, 1916), (1854, 1799, 1884, 1829), (1821, 1649, 1851, 1679), (1813, 1884, 1844, 1914), (1794, 1858, 1824, 1888), (1865, 1798, 1895, 1828), (1890, 1893, 1920, 1923), (1875, 1902, 1905, 1932), (1893, 1760, 1923, 1790), (1895, 1711, 1925, 1741), (1840, 1642, 1870, 1672), (1805, 1840, 1835, 1870), (1844, 1787, 1874, 1817), (1902, 1704, 1932, 1734), (828, 1031, 856, 1063), (1419, 504, 1447, 536), (1713, 317, 1744, 345), (1550, 464, 1580, 492), (1704, 85, 1734, 113), (1902, 784, 1930, 814), (959, 1679, 984, 1711)
inflammatory: (1895, 1902, 1925, 1932)
lymphocyte: (1309, 536, 1341, 568), (1870, 798, 1902, 830), (1815, 1737, 1847, 1769), (1559, 393, 1589, 425), (1875, 219, 1907, 249), (1898, 225, 1930, 255), (1792, 1888, 1824, 1918), (538, 464, 568, 494), (1879, 651, 1909, 681), (632, 665, 660, 697)
